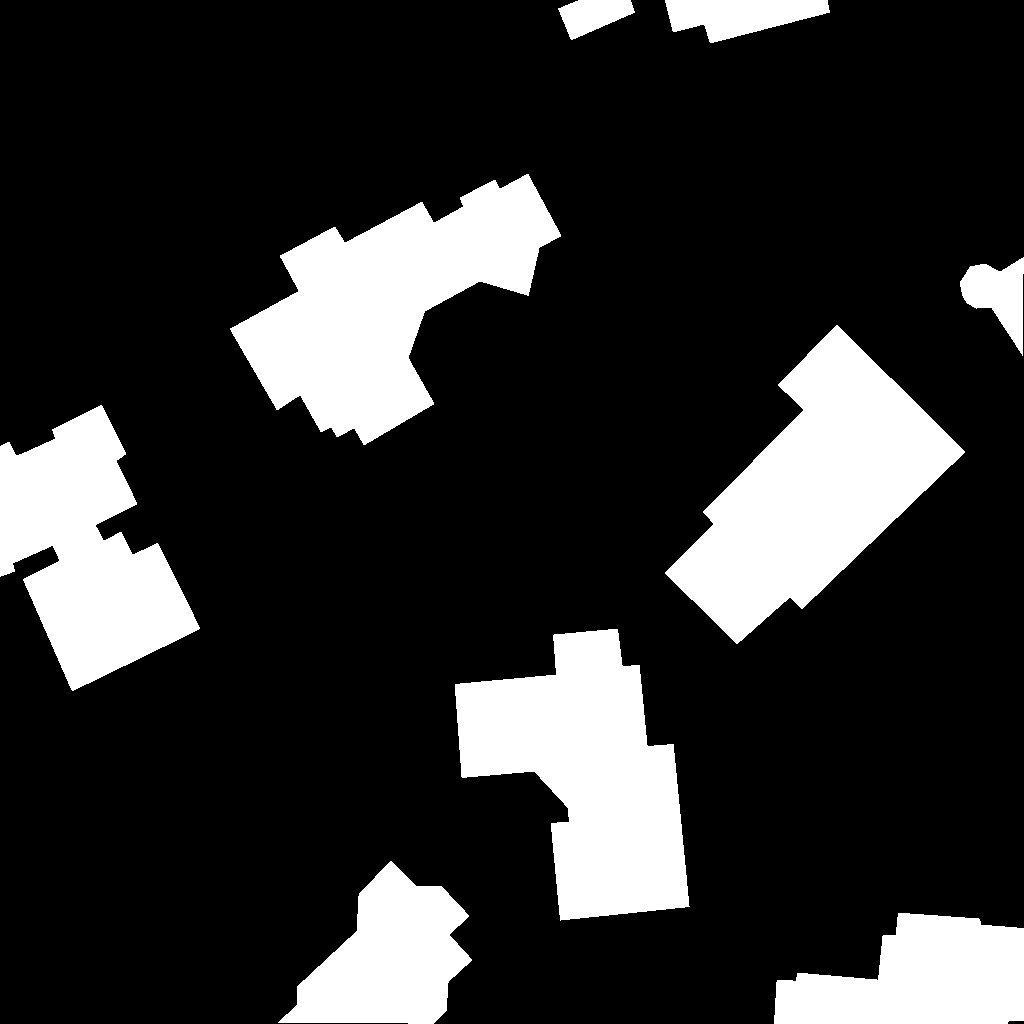building: (665, 325, 966, 645), (230, 174, 562, 446), (455, 629, 690, 921), (0, 405, 201, 692), (278, 861, 473, 1024), (774, 913, 1024, 1024), (665, 0, 831, 44), (960, 257, 1024, 357), (558, 0, 636, 41)
